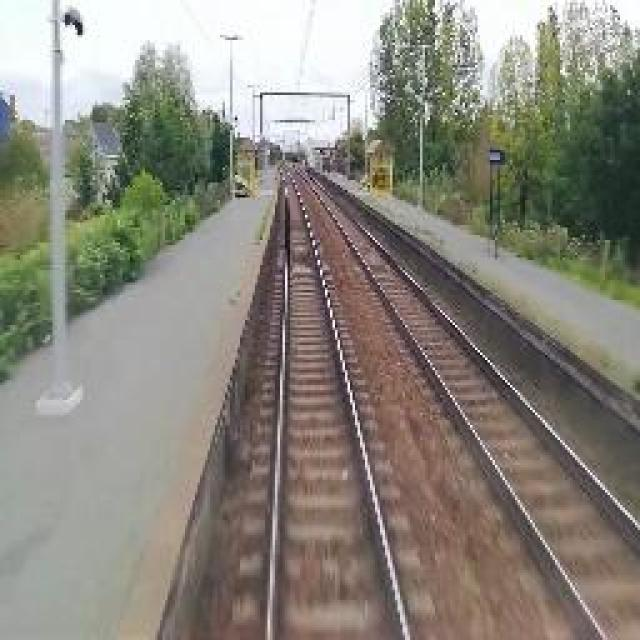rail: (230, 162, 439, 640)
